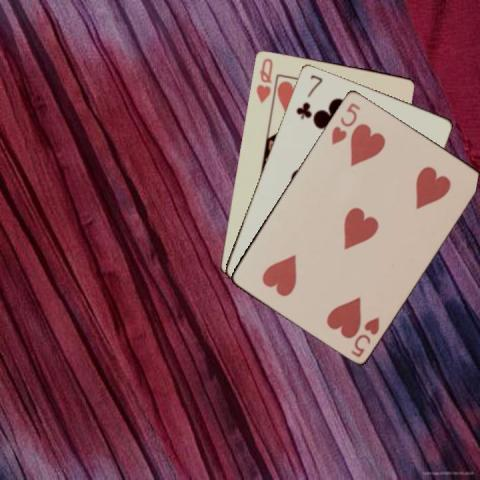5h: (328, 99, 362, 147), (348, 313, 382, 358)
7c: (293, 71, 323, 120)
Qh: (253, 54, 274, 104)
